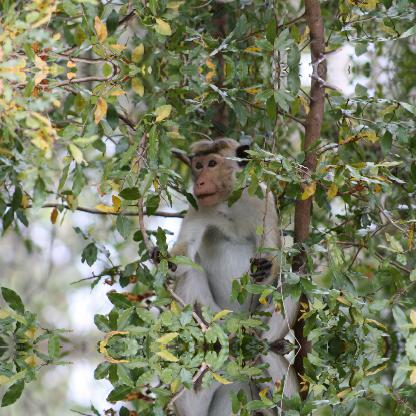Monkey: (170, 135, 304, 345), (170, 347, 304, 415)
